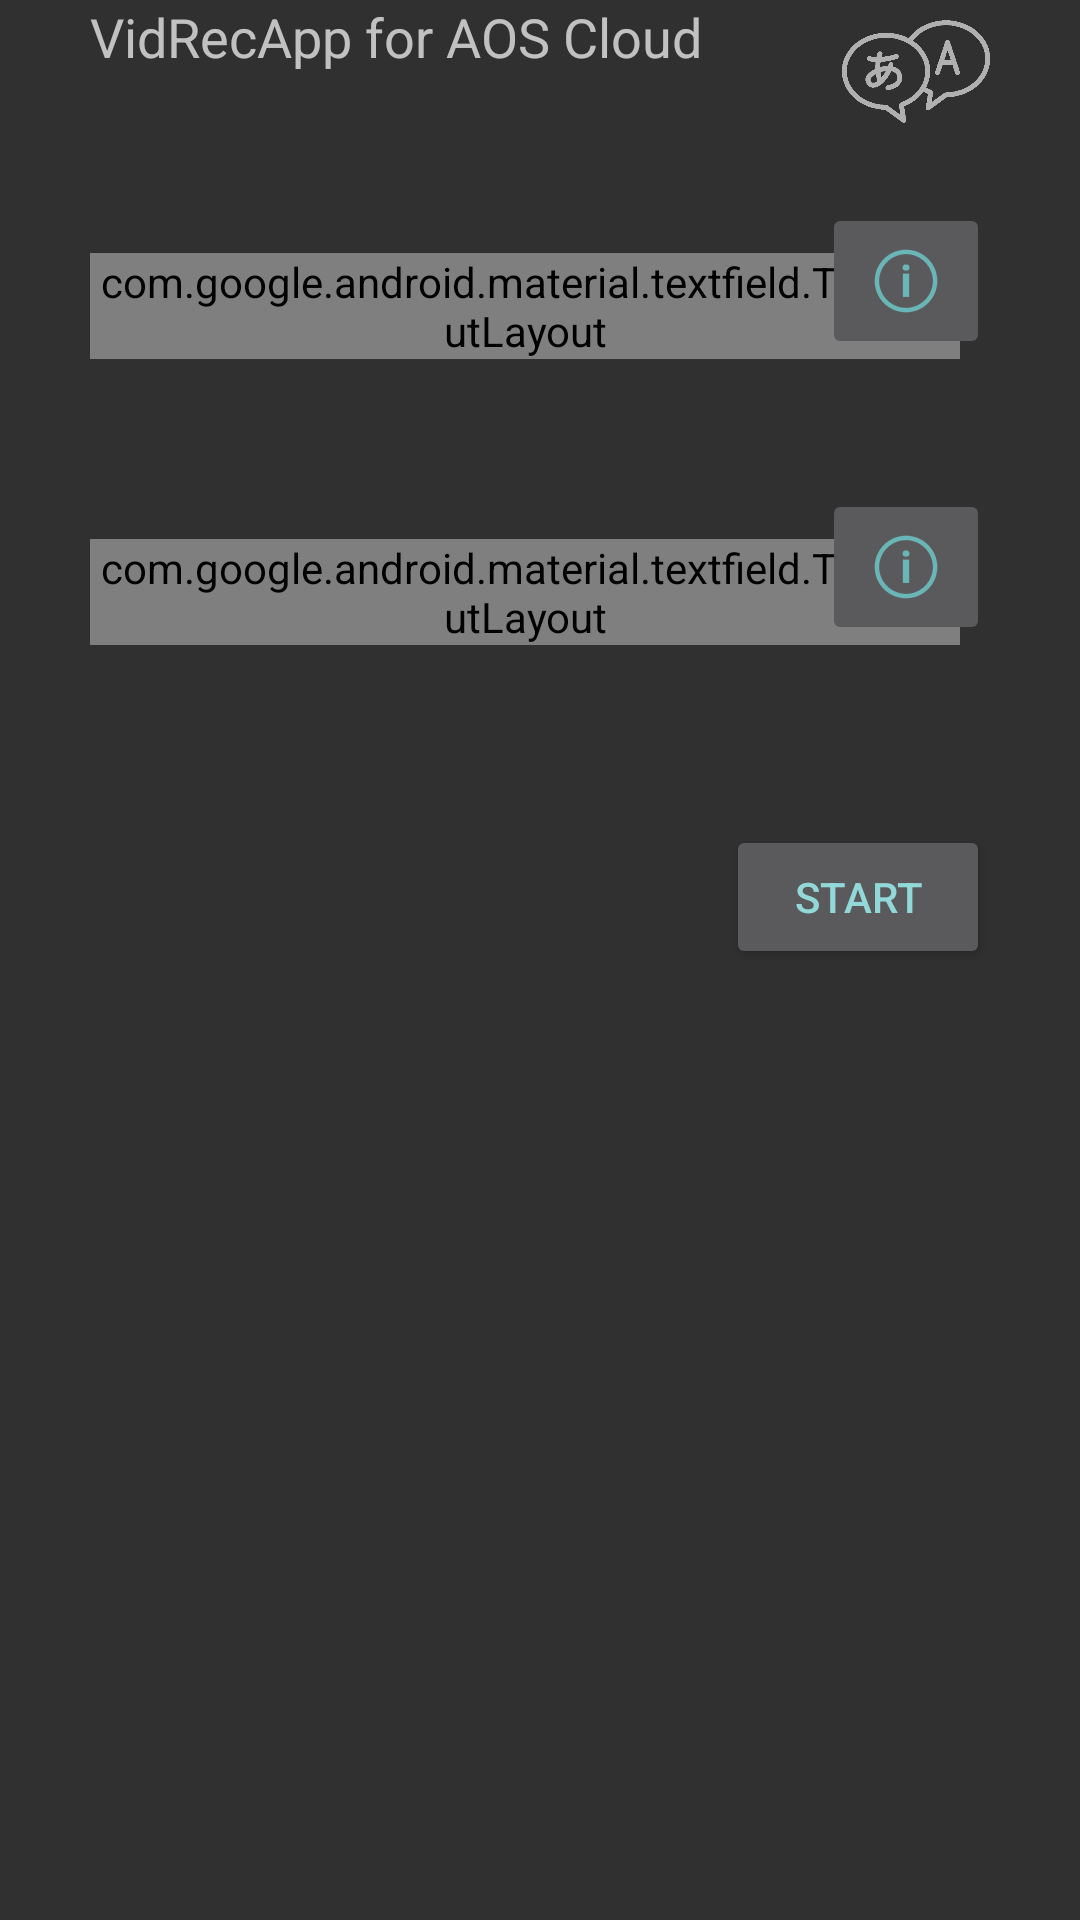

Where icons sit on this 1080 × 1920 app screen, as detection(x1, y1, x2, y2):
info: detection(822, 221, 978, 359), detection(822, 507, 978, 645)
言語選択: detection(842, 20, 990, 123)
